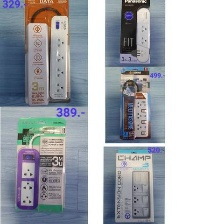book: (13, 115, 67, 214), (23, 0, 73, 106), (112, 148, 155, 224), (117, 66, 152, 141), (118, 0, 153, 64)
three_eye_plug: (46, 13, 70, 101), (14, 146, 42, 211), (128, 167, 151, 220), (134, 5, 152, 63), (133, 89, 149, 139)
